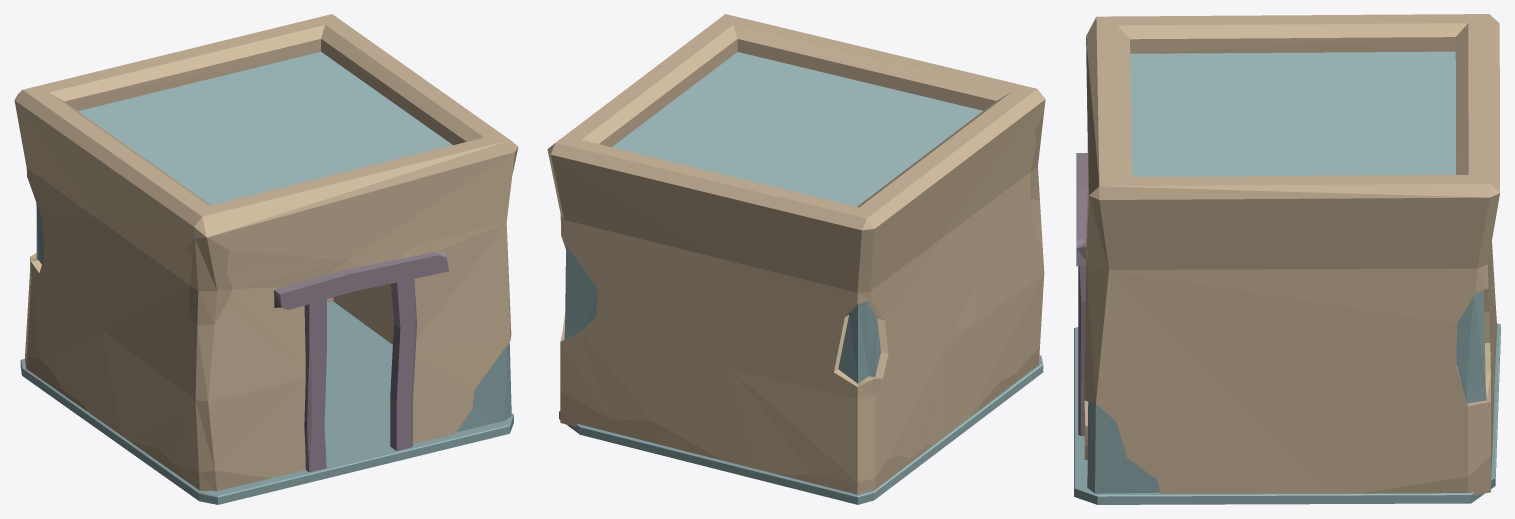
File: Outhouse.fbx
3 views of the same model, side by side, from view 1: azimuth 30°, elevation 25°; view 2: azimuth 150°, elevation 25°; view 3: azimuth 270°, elevation 25° (orthographic). The views are drawn at different scales.
Parts seen in each view (by area): view 1: OutHouse; view 2: OutHouse; view 3: OutHouse.
Boxes of the visible parts, box(x1,y1,x2,y2) form: OutHouse: box(14, 14, 518, 504); OutHouse: box(547, 14, 1045, 504); OutHouse: box(1074, 14, 1500, 504).
Bounding box in the file's own units: 4.09 × 3.34 × 4.08.
Materials: 1 (1 with a texture image).
